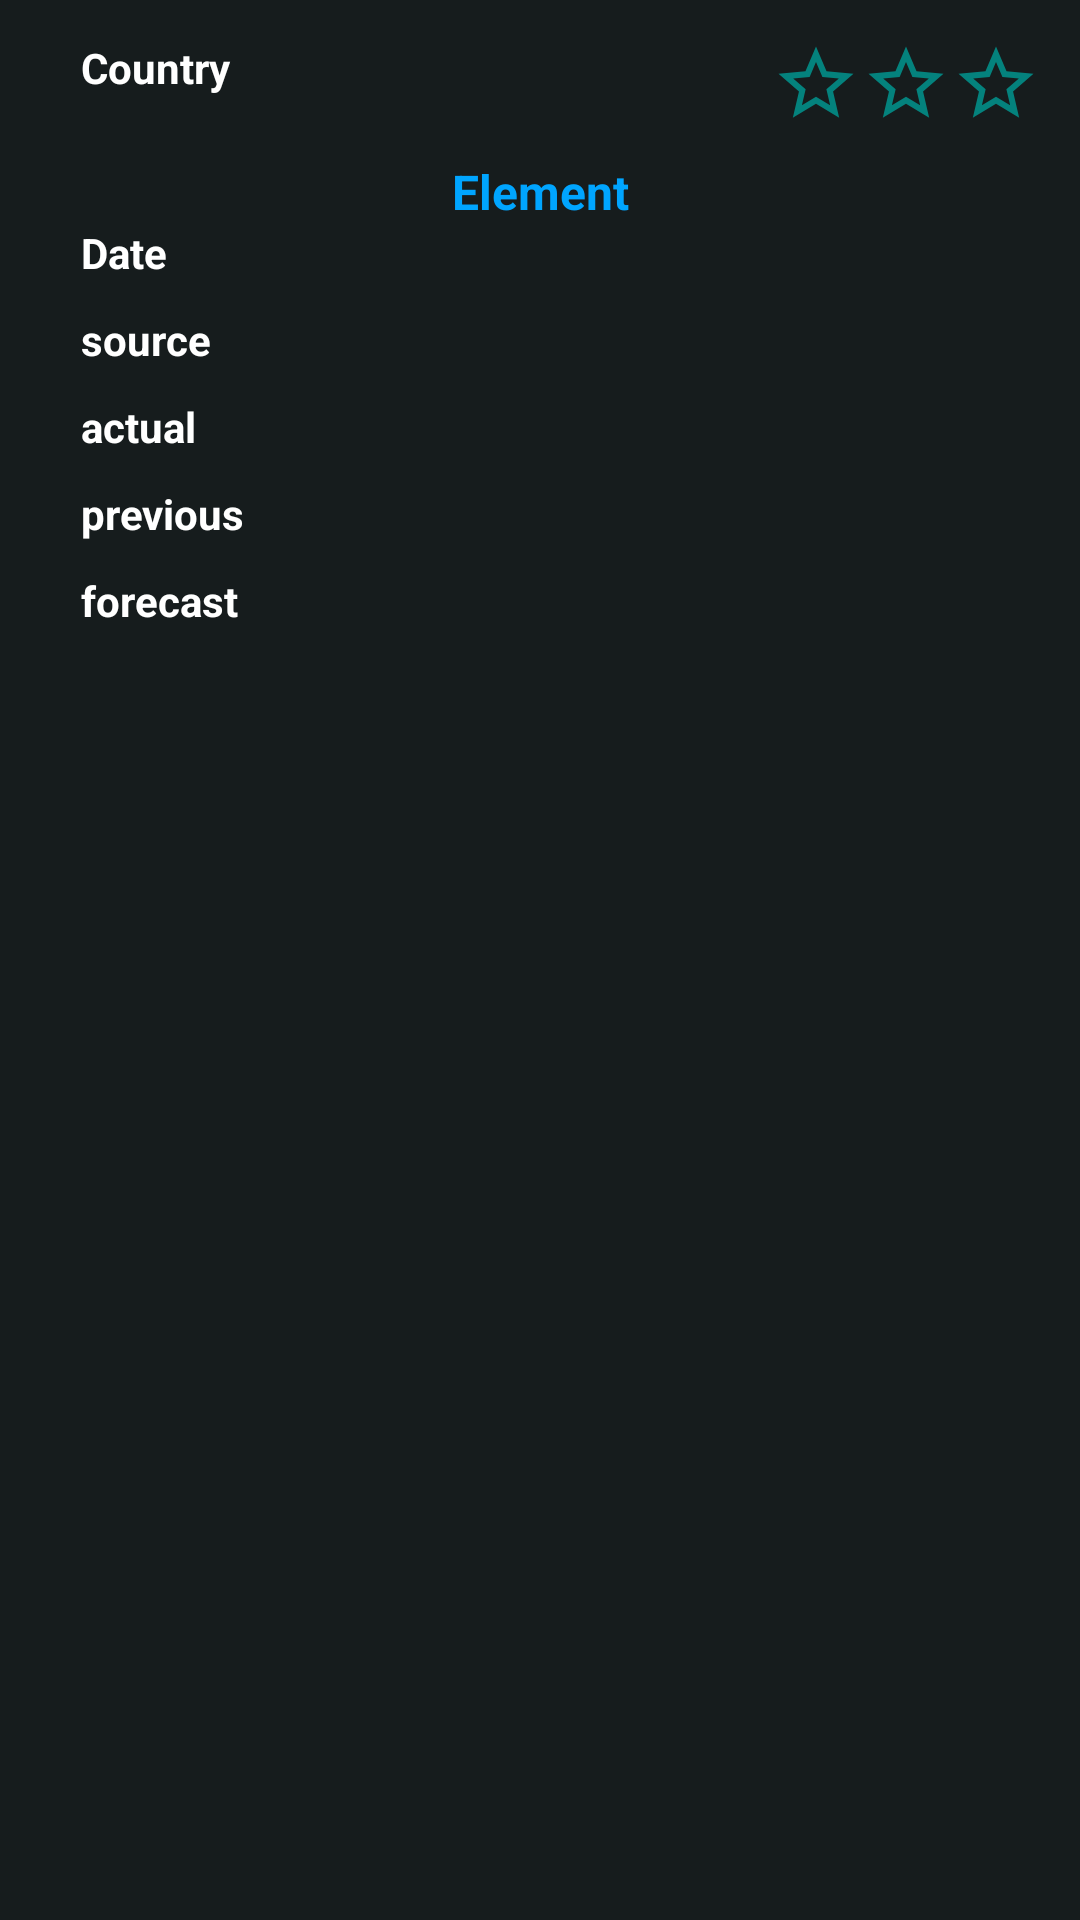

Point at icon controls on the screen. Image size 1080 × 1920, points as point (x, y).
star empty: point (816, 82), point (906, 82), point (996, 82)
